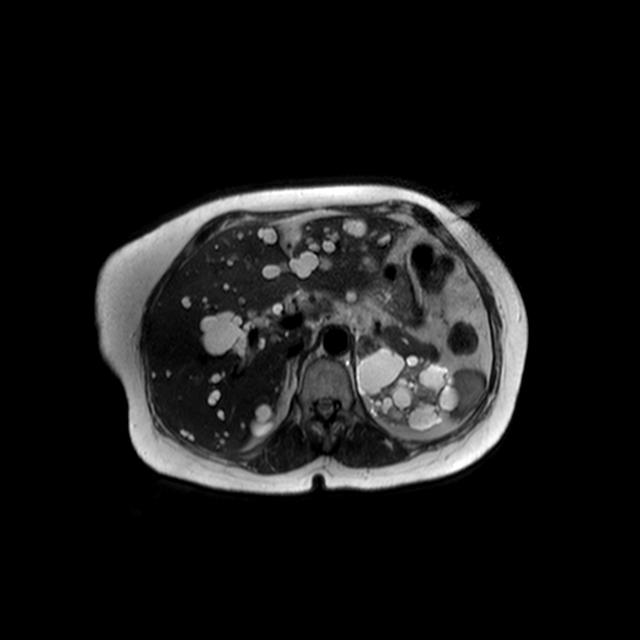sol: (355, 346, 456, 431)
